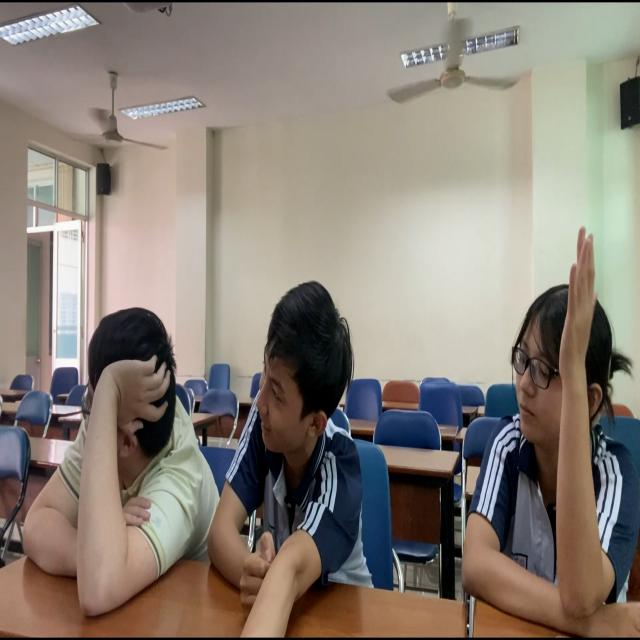raise_hand: (454, 214, 640, 640)
